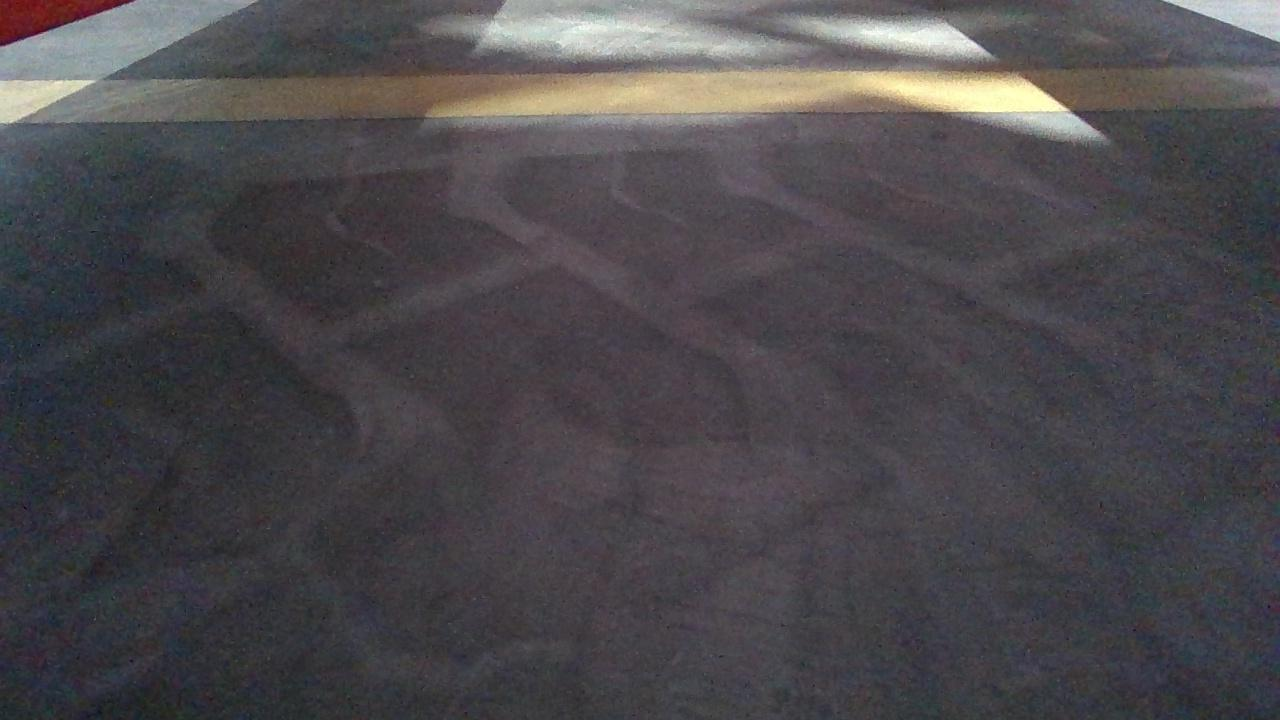yellow_line: (0, 58, 1280, 120)
